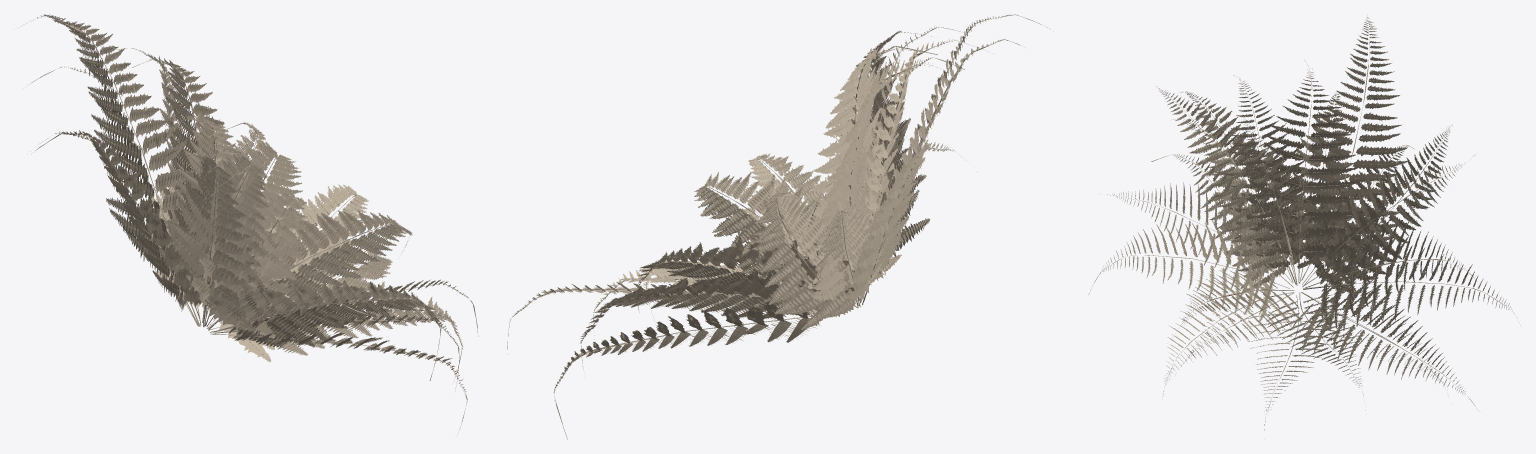
Rendered from 3dcodebench_Fern_seed0_L1_Q0__qwen3vl.glb.
3 views of the same model, side by side, from view 1: azimuth 30°, elevation 25°; view 2: azimuth 150°, elevation 25°; view 3: azimuth 270°, elevation 25° (orthographic). The views are drawn at different scales.
Visible parts, largest first — view 1: object; view 2: object; view 3: object.
Part boxes in pixels (bbox=[...]): object: bbox=[17, 14, 478, 429]; object: bbox=[507, 14, 1050, 439]; object: bbox=[1088, 17, 1520, 430].
Bounding box in the file's own units: 2.51 × 2.39 × 3.13.
